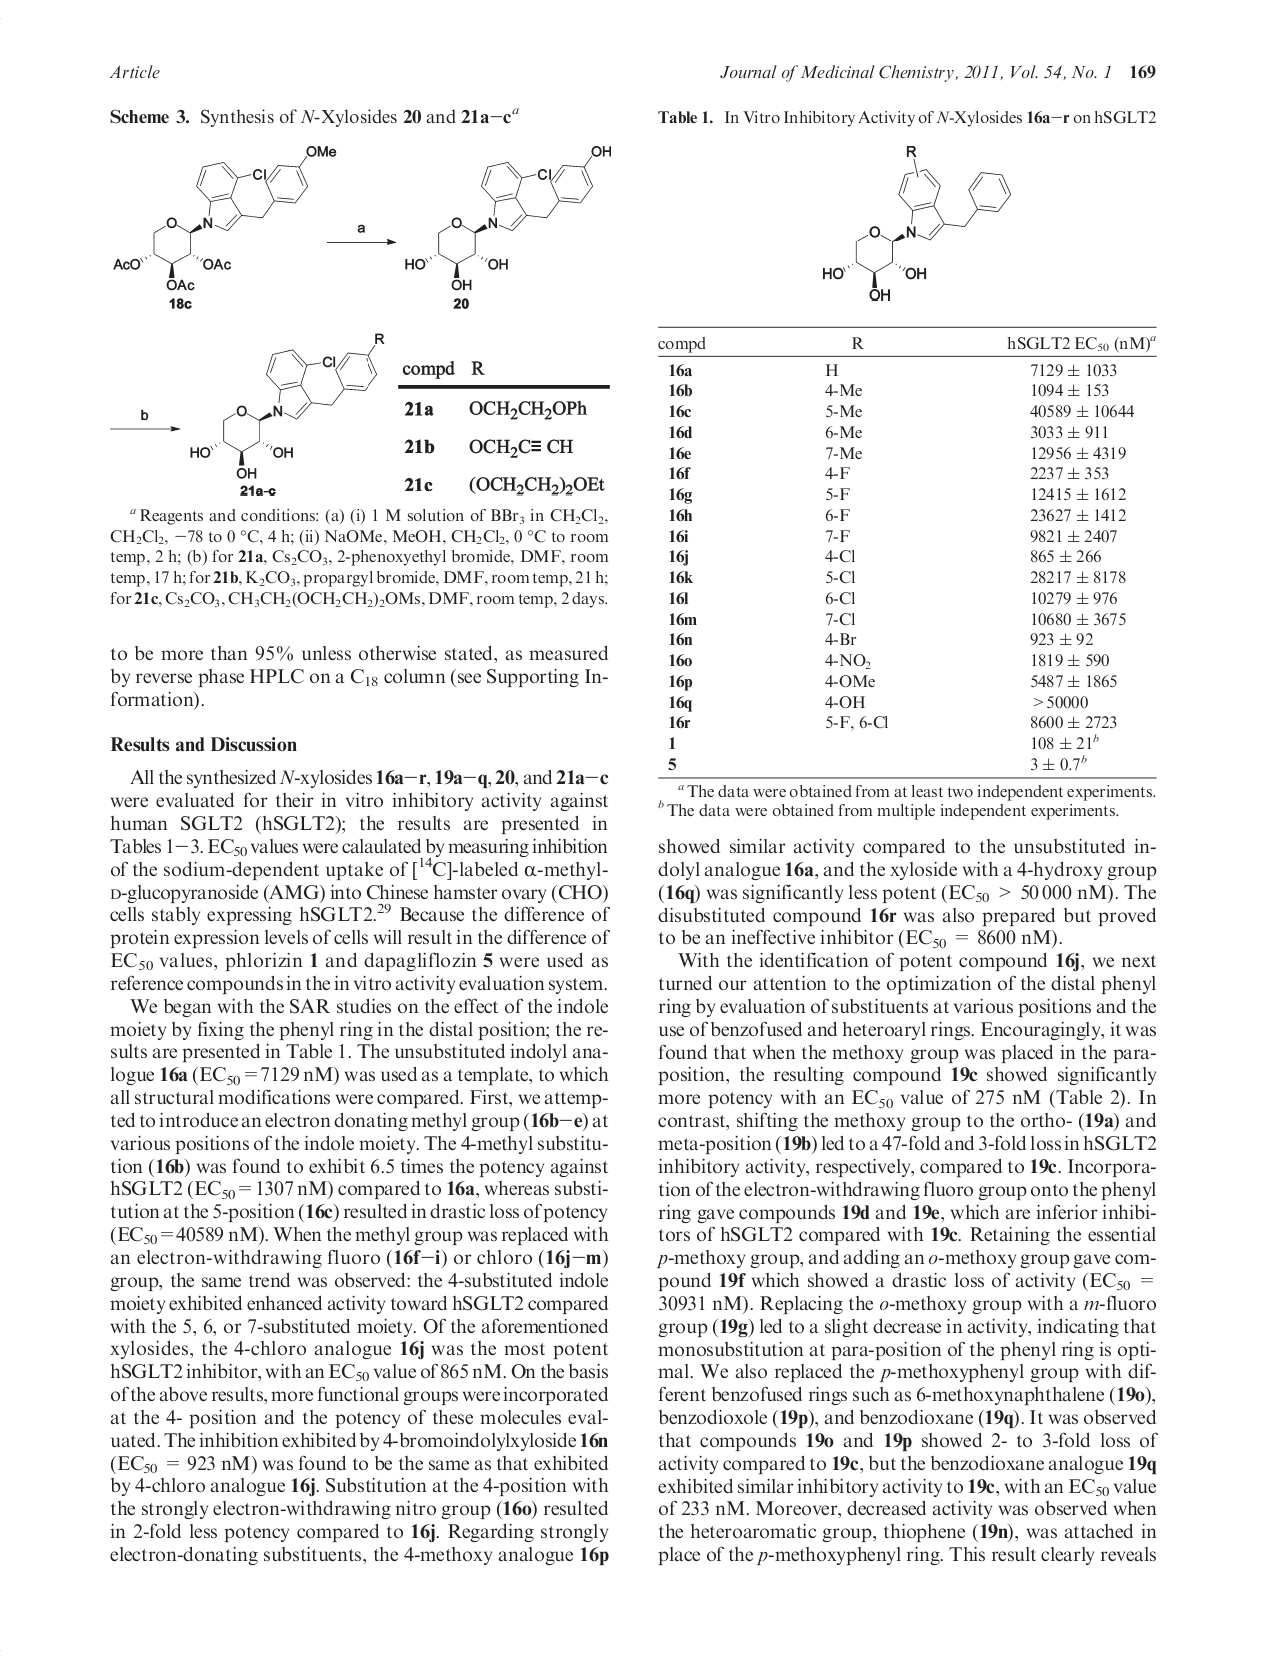exist_molecular: (109, 141, 336, 293), (402, 144, 613, 293), (821, 144, 1013, 305), (189, 330, 386, 479)
